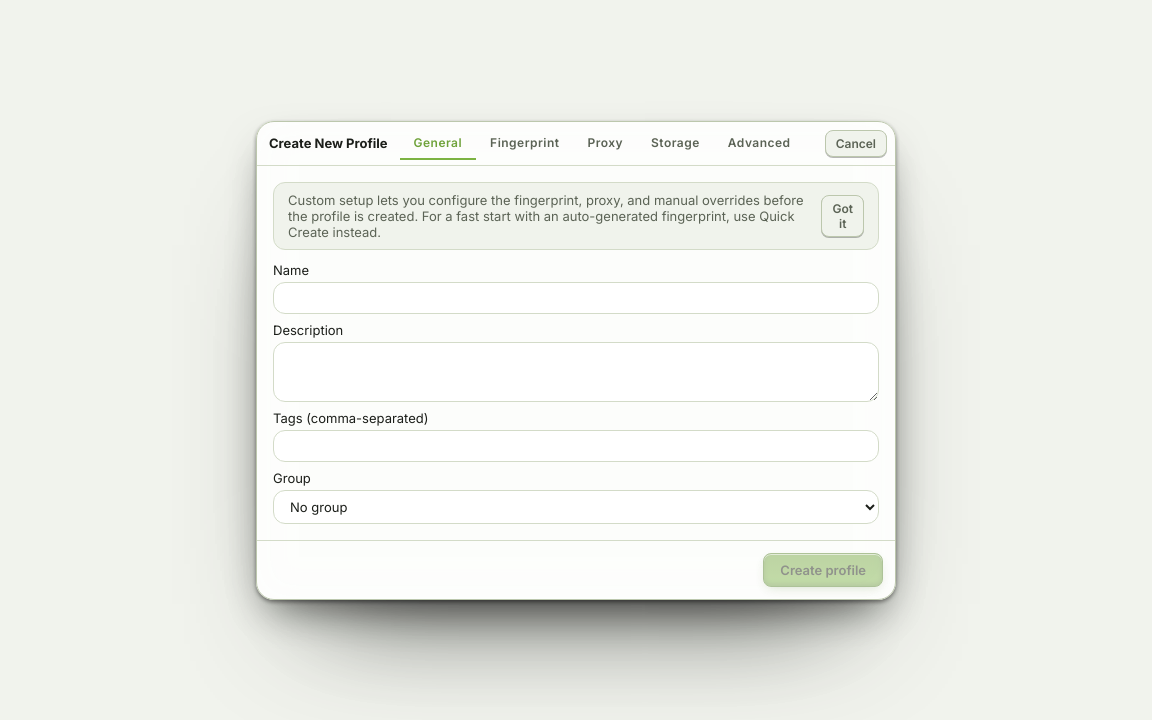
Test: ProfileCreateModal › the Create button is disabled until the name is non-blank and a fingerprint has loaded
Expected: the button "Create profile" is disabled, [763,552,883,586]
Type "My Profile" into the field labelled "Name" at (576,298), box [273,282,879,314]
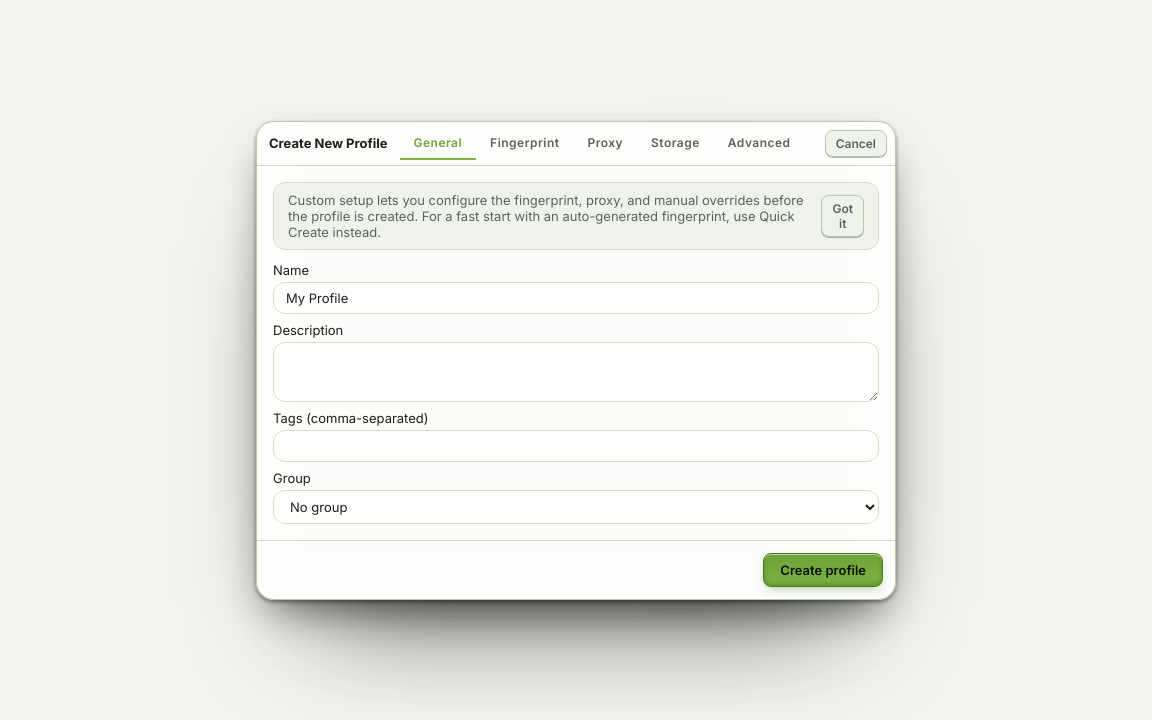
Expected: the button "Create profile" is enabled, [763,552,883,586]
